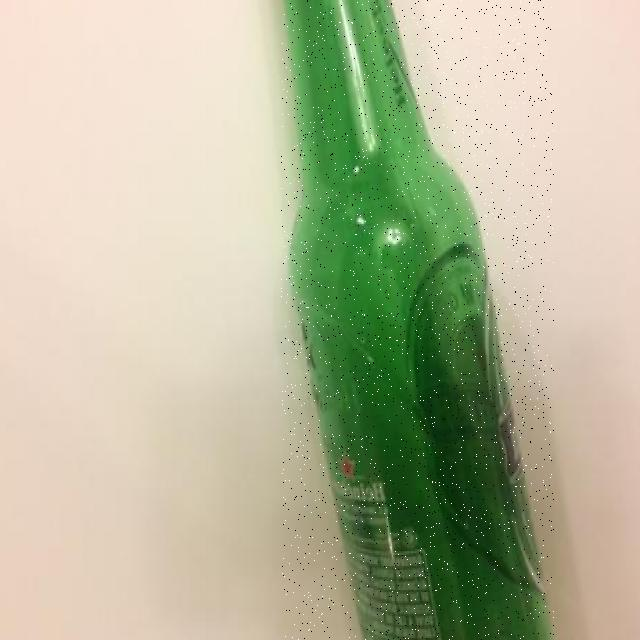glass: (282, 0, 554, 640)
